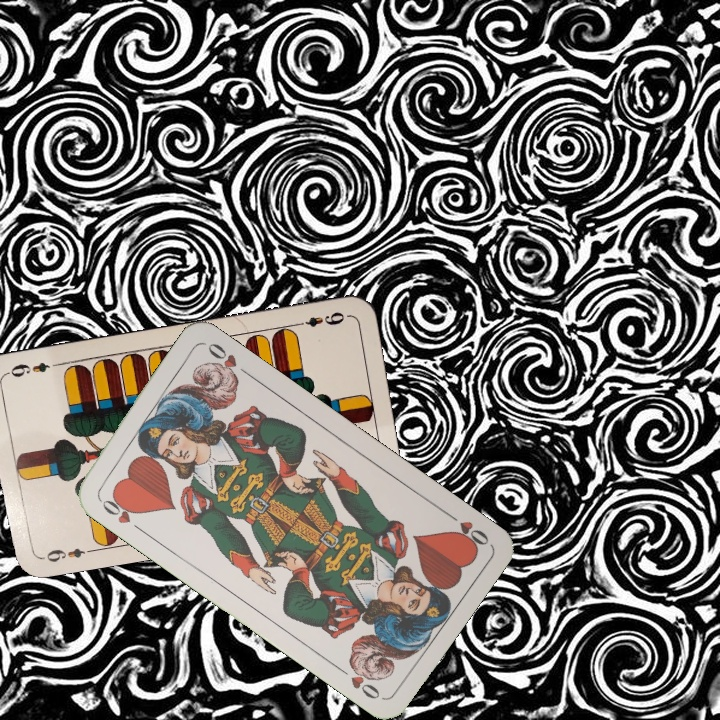E9: (36, 544, 95, 565), (291, 308, 347, 330)
HO: (440, 506, 492, 552), (94, 490, 145, 535)
